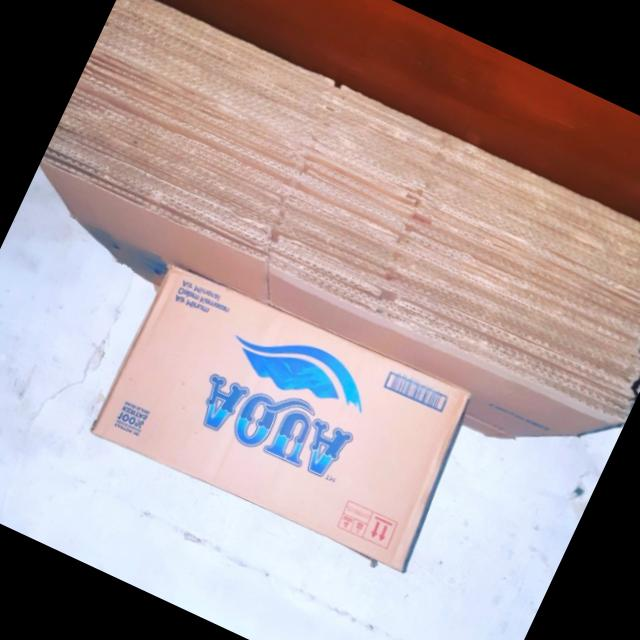Kardus: (11, 0, 640, 494), (87, 253, 486, 580)
